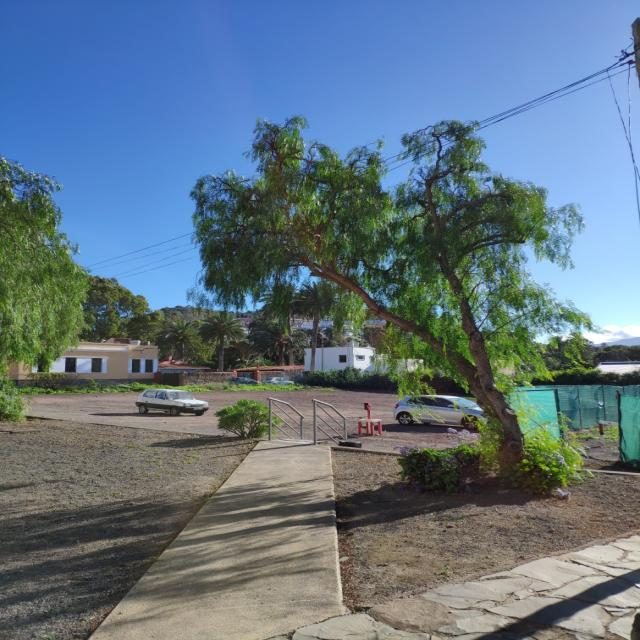Palm-Trees: (294, 281, 336, 371), (198, 310, 246, 371)
